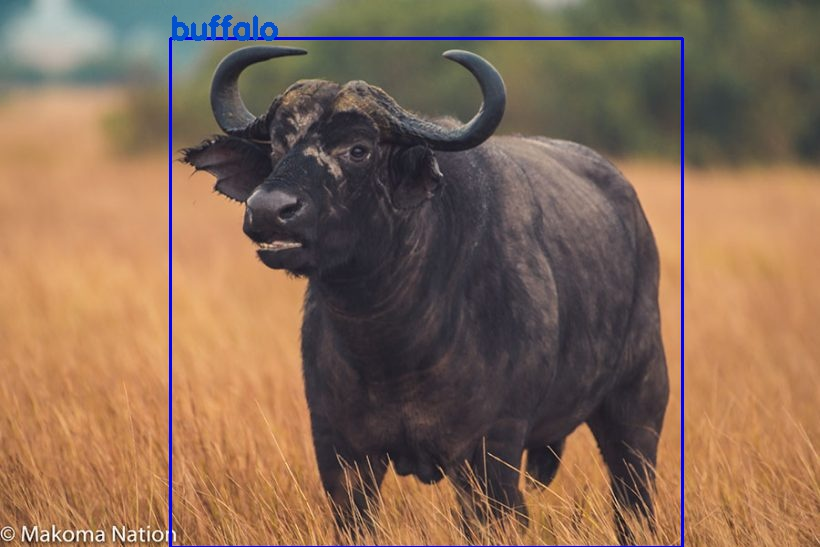buffalo: (169, 38, 681, 547)
